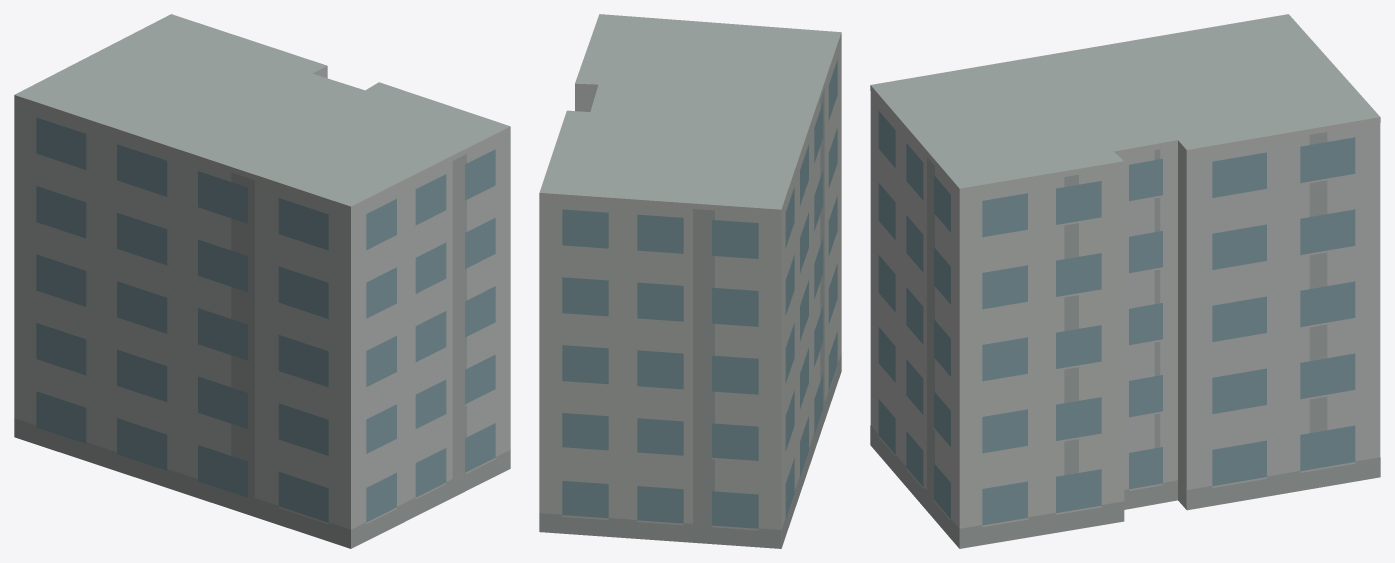
The model's file is survey-upis-32824100.glb.
The picture shows the model from 3 angles, left to right: view 1: azimuth 30°, elevation 25°; view 2: azimuth 150°, elevation 25°; view 3: azimuth 270°, elevation 25°; orthographic projection. The views are drawn at different scales.
Parts seen in each view (by area): view 1: survey-upis-32824100.tmp; view 2: survey-upis-32824100.tmp; view 3: survey-upis-32824100.tmp.
Boxes of the visible parts, <box> form: survey-upis-32824100.tmp: <box>14,14,510,548</box>; survey-upis-32824100.tmp: <box>539,14,841,548</box>; survey-upis-32824100.tmp: <box>870,14,1380,548</box>.
Size of the model in its own units: 15.71 by 15.1 by 19.38.
